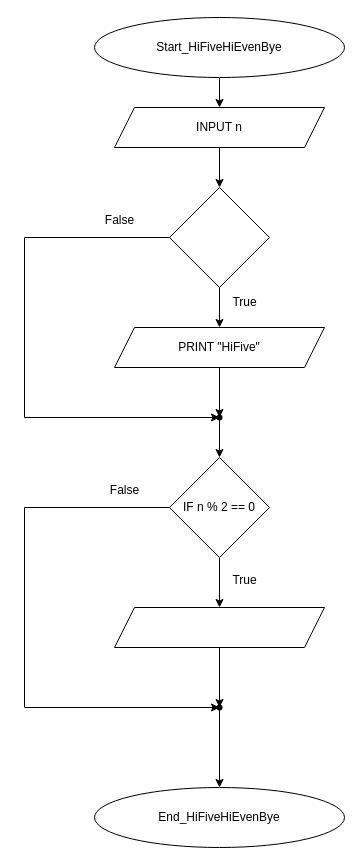
The diagram is 362 pixels wide and 865 high, and some of its shapes have lost their labels. Here are the shapes that lost their labels. From the top down, the centre of each, then its label:
point 219,237: IF n % 5 == 0
point 219,627: PRINT "HiEven"
